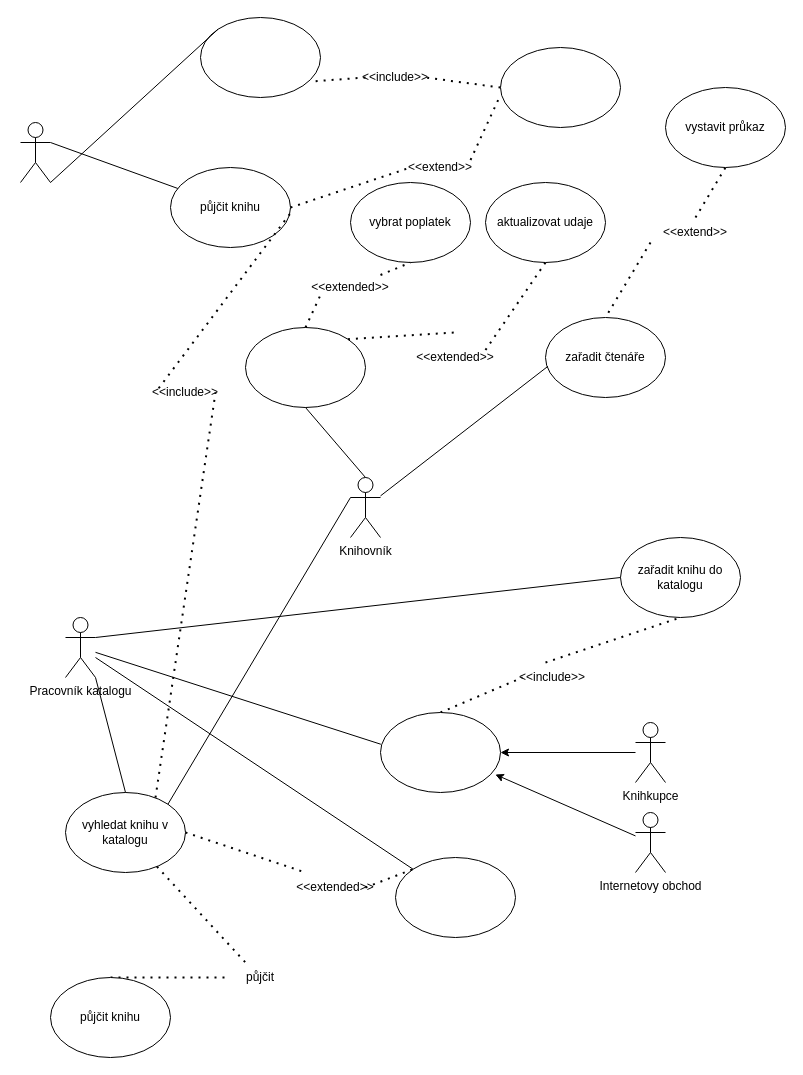
This 803x1075 diagram has some shape labels left out. Each missing label, with the centre of its shape:
"rezervovat knihu" goes at point 560,87.
"vrátit knihu" goes at point 260,57.
"vyhledat čtenaře" goes at point 305,367.
"vyřadit knihu" goes at point 455,897.
"zakoupit knihu" goes at point 440,752.
"Čtenář" goes at point 35,152.
